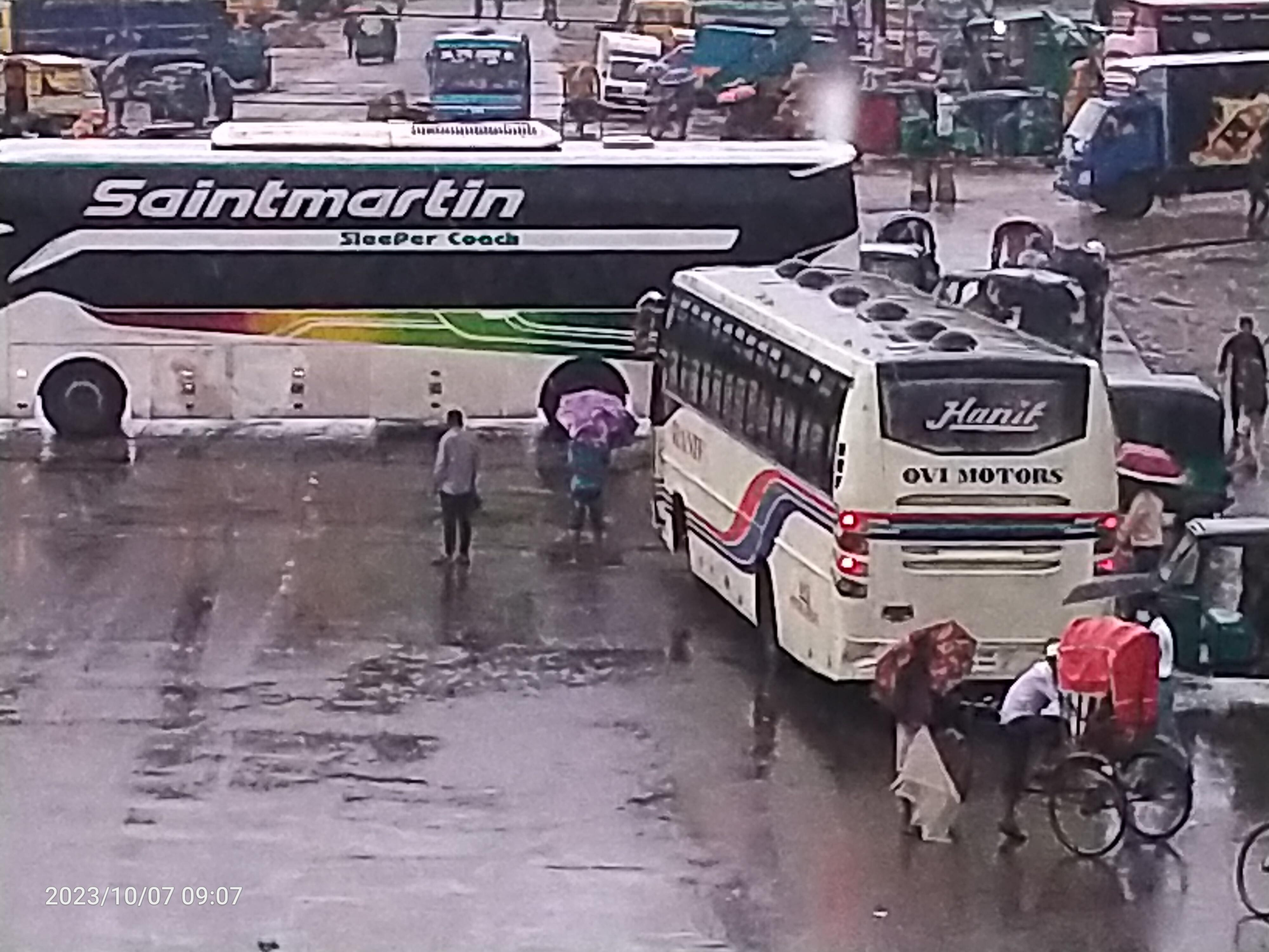Bus: (0, 104, 900, 489), (613, 239, 1150, 745), (417, 17, 553, 145)
Car: (962, 597, 1206, 897), (585, 24, 704, 158), (0, 37, 110, 154), (553, 50, 613, 146)
Truck: (1042, 30, 1269, 235)
